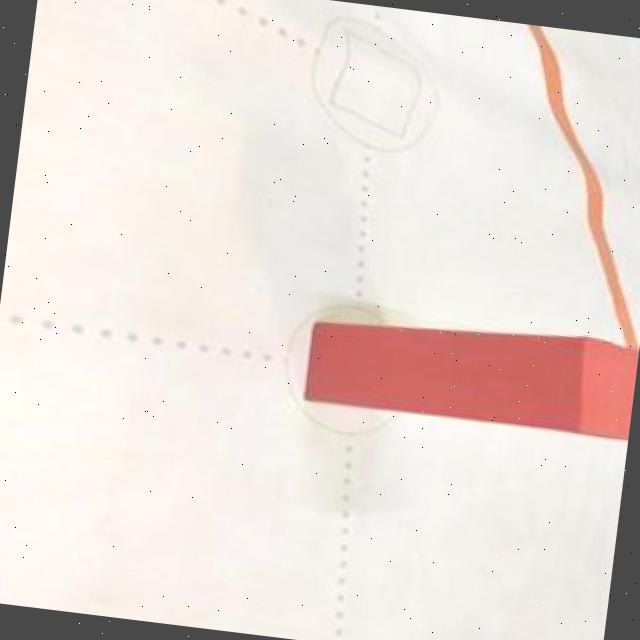redbox: (302, 302, 640, 442)
